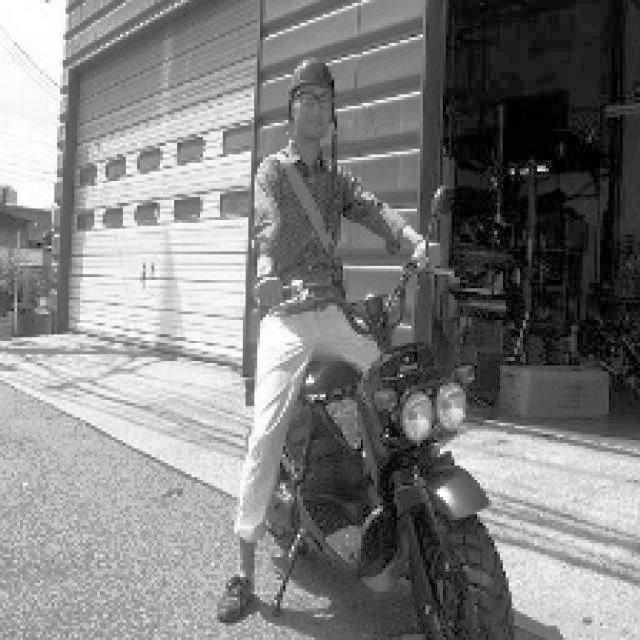Bike: (288, 290, 538, 639)
